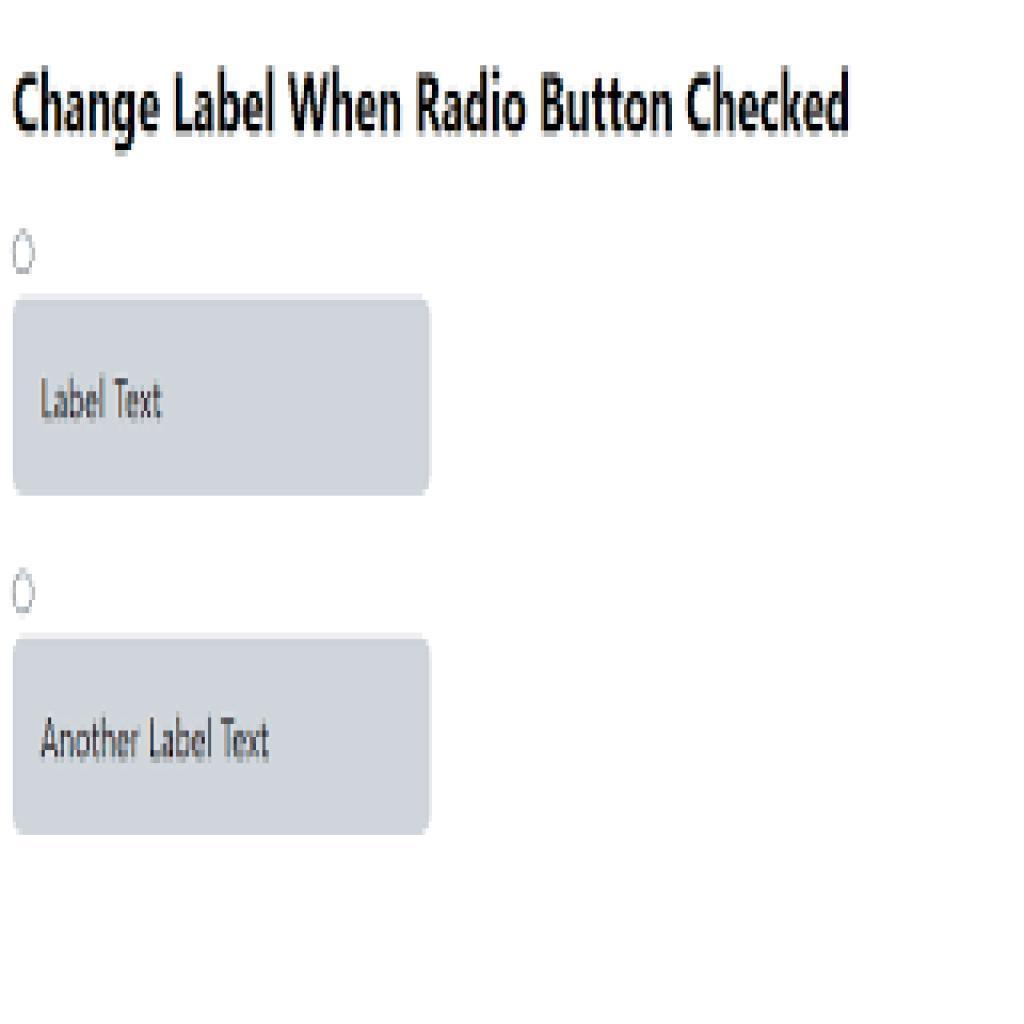input: (14, 637, 435, 833), (15, 299, 432, 495)
radio: (9, 564, 42, 626), (11, 225, 43, 281)
